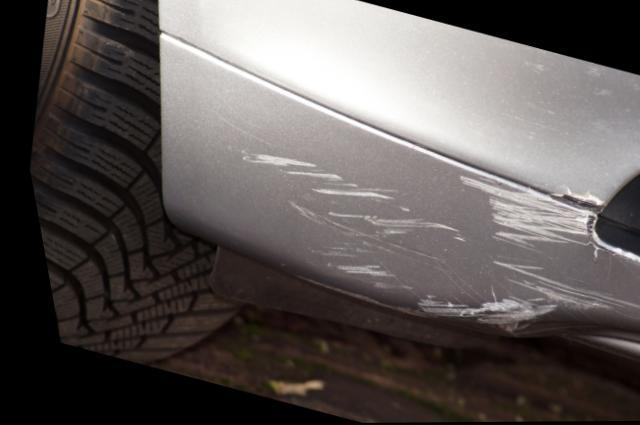scratch: (229, 146, 640, 337)
